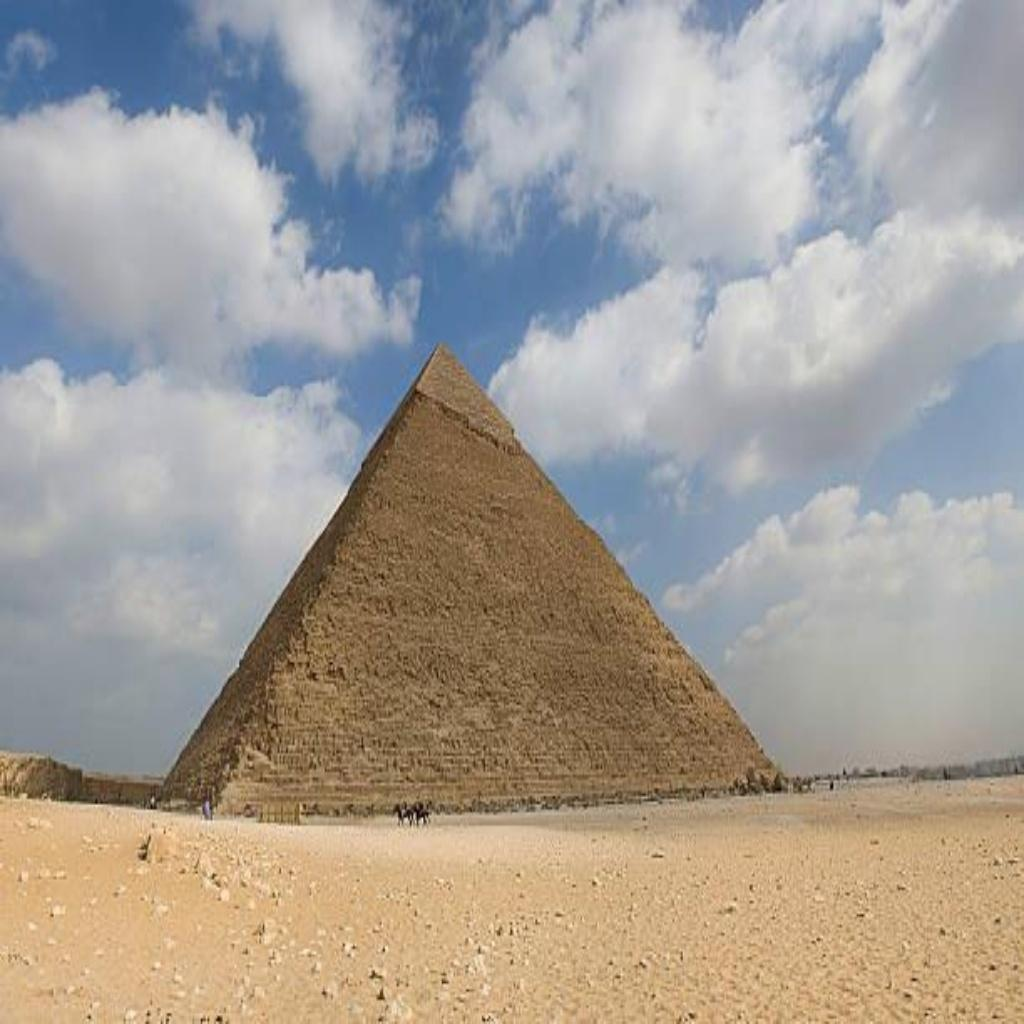Great Pyramids of Giza: (154, 335, 790, 818)
